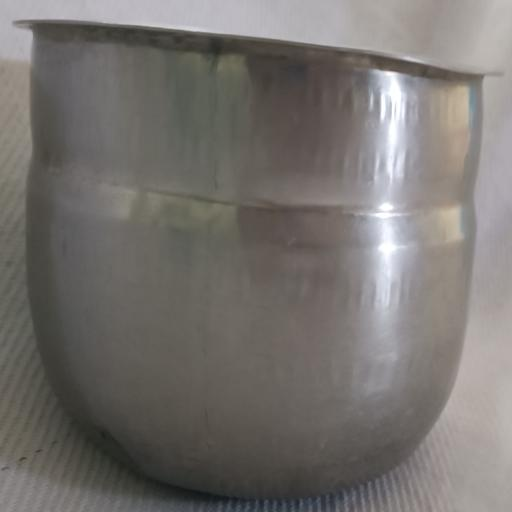vessel: (15, 20, 501, 498)
